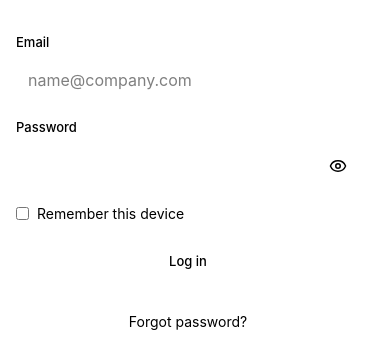
Test: Login › blocks duplicate submissions and allows retry after a response failure
The image size is (377, 364).
Type "test@example.com" into the field labelled "Email".
click(188, 80); type("test@example.com")  # box top-left (16, 58), bottom-right (360, 102)
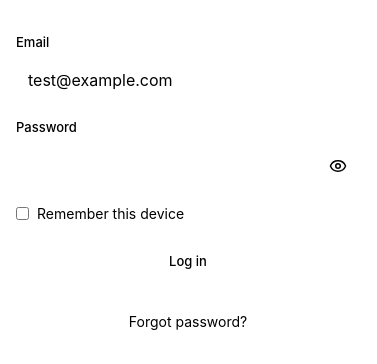
Type "wrongpass" into the password field labelled "Password".
click(188, 166); type("wrongpass")  # box top-left (16, 144), bottom-right (360, 188)
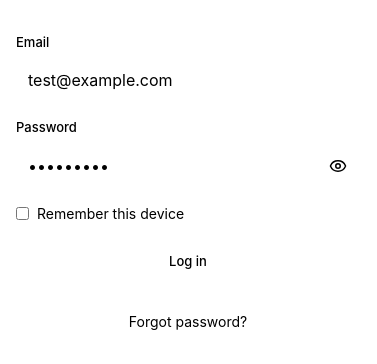
Submit the form "Log in"
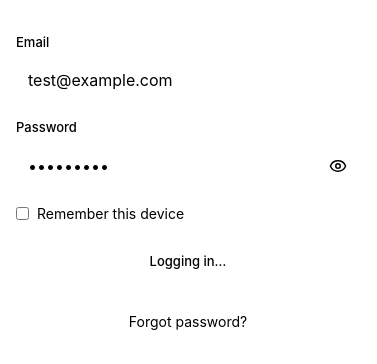
Submit the form named "Log in"
Expected: the button "Logging in…" is disabled, top-left (16, 240), bottom-right (360, 284)
Submit the form named "Log in"
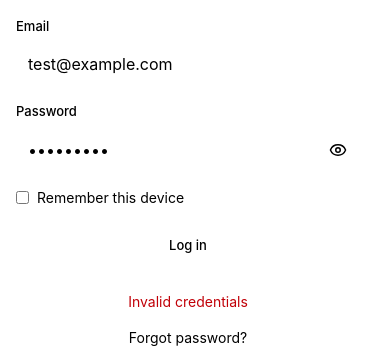
Expected: the text "Invalid credentials" is shown, top-left (128, 292), bottom-right (248, 310)
Expected: the button "Log in" is enabled, top-left (16, 224), bottom-right (360, 268)
Submit the form "Log in"
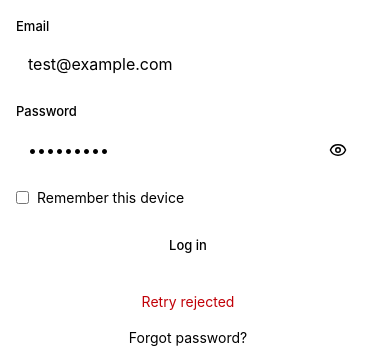
Expected: the button "Log in" is enabled, top-left (16, 224), bottom-right (360, 268)
Expected: the text "Retry rejected" is shown, top-left (142, 292), bottom-right (234, 310)
